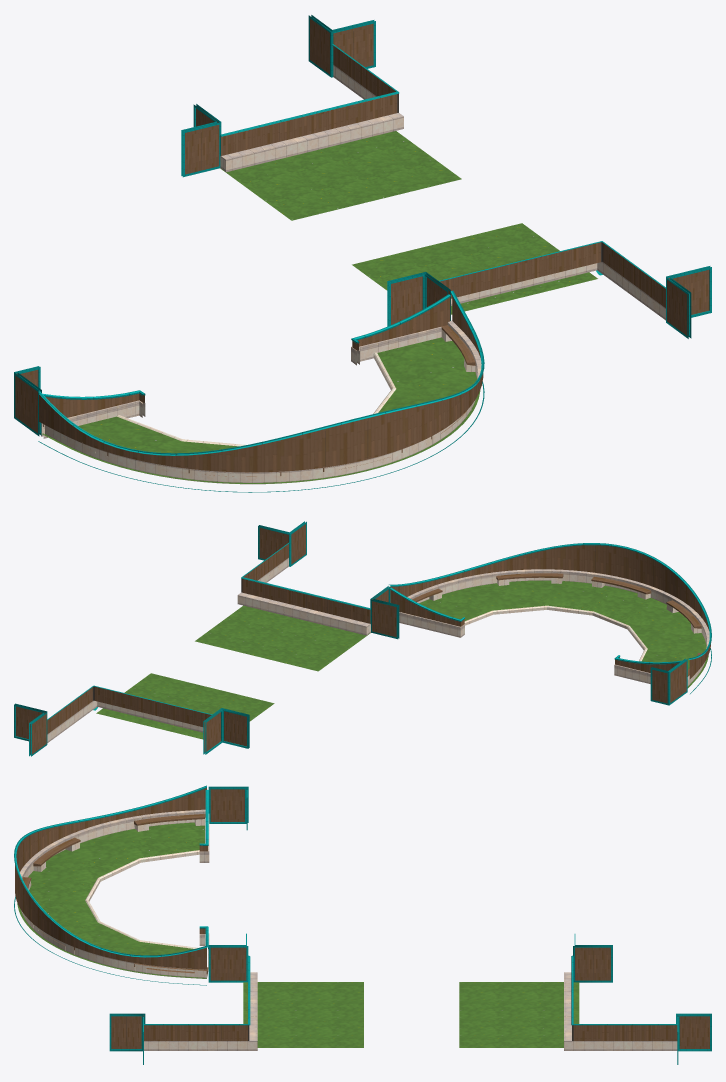
File: ExteriorGardenAssets_01.fbx
3 views of the same model, one above another, from view 1: azimuth 30°, elevation 25°; view 2: azimuth 150°, elevation 25°; view 3: azimuth 270°, elevation 25° (orthographic). The views are drawn at different scales.
Parts seen in each view (by area): view 1: ExteriorGardenAssets_01; view 2: ExteriorGardenAssets_01; view 3: ExteriorGardenAssets_01.
Boxes of the visible parts, left/top/right/bottom form: ExteriorGardenAssets_01: left=14, top=15, right=711, bottom=492; ExteriorGardenAssets_01: left=14, top=521, right=711, bottom=756; ExteriorGardenAssets_01: left=14, top=785, right=711, bottom=1064.
Bounding box in the file's own units: 6613 × 631 × 7952.
